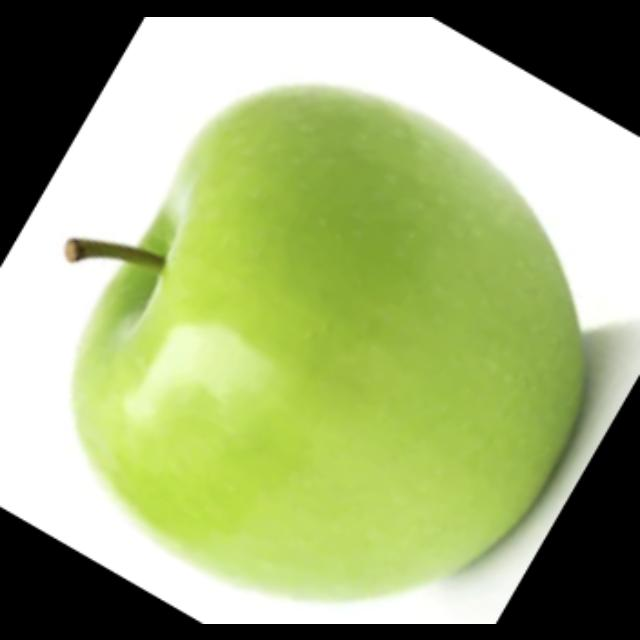Apel Segar: (54, 71, 596, 611)
